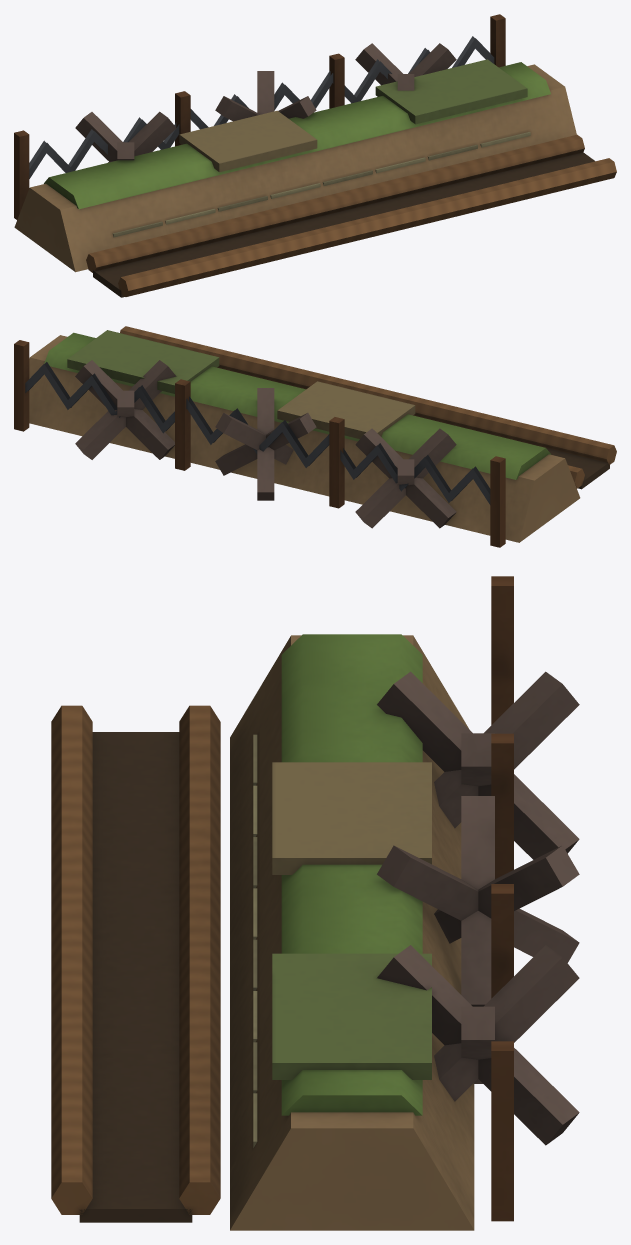
File: fort_l6_edge.glb
3 views of the same model, one above another, from view 1: azimuth 30°, elevation 25°; view 2: azimuth 150°, elevation 25°; view 3: azimuth 270°, elevation 25° (orthographic). The views are drawn at different scales.
Parts seen in each view (by area): view 1: fort_l6_edge; view 2: fort_l6_edge; view 3: fort_l6_edge.
Boxes of the visible parts, <box> form: fort_l6_edge: <box>14,14,616,297</box>; fort_l6_edge: <box>14,326,616,547</box>; fort_l6_edge: <box>51,576,579,1230</box>.
Size of the model in its own units: 0.62 by 0.1001 by 0.281.
1 material, 1 textured.
